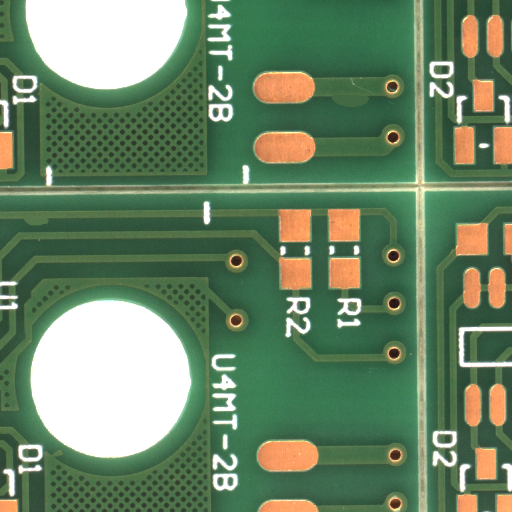Spur: (350, 101, 398, 119), (35, 221, 66, 233)
